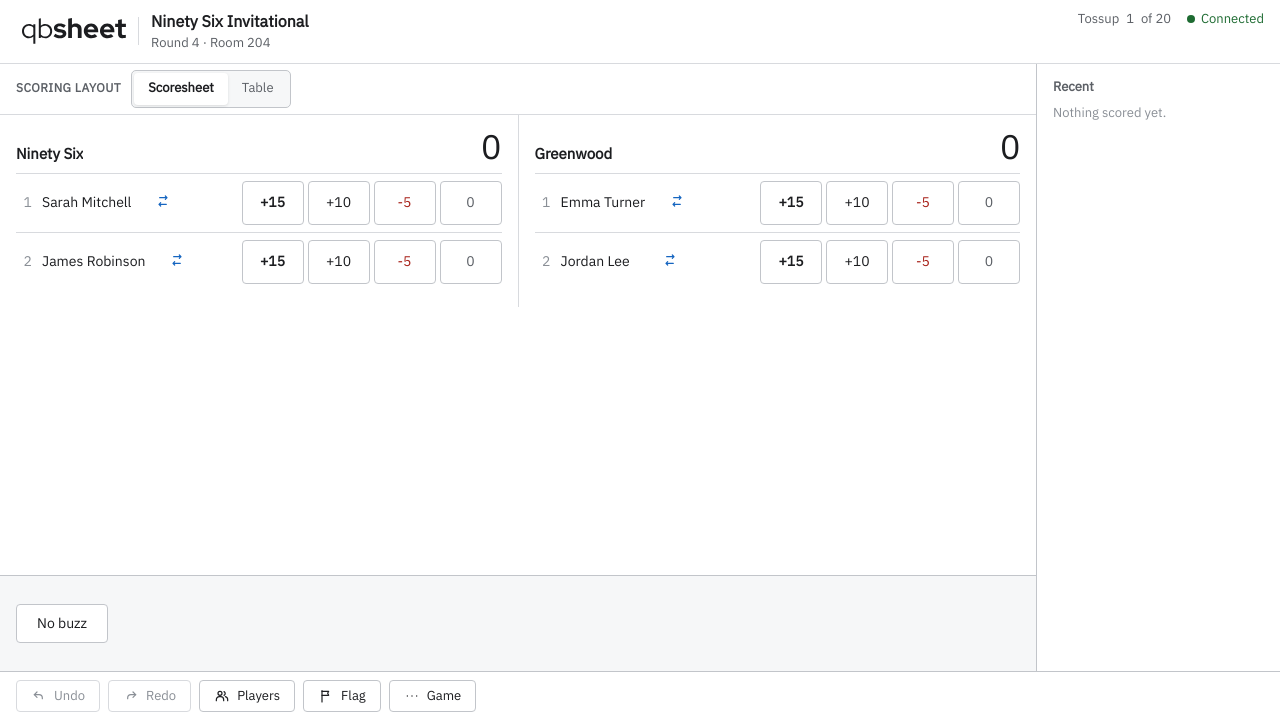
Test: the Game menu entry › choosing a game renders that game and only that game
Click the button "Game" at (432, 696), box [389,680,476,712]
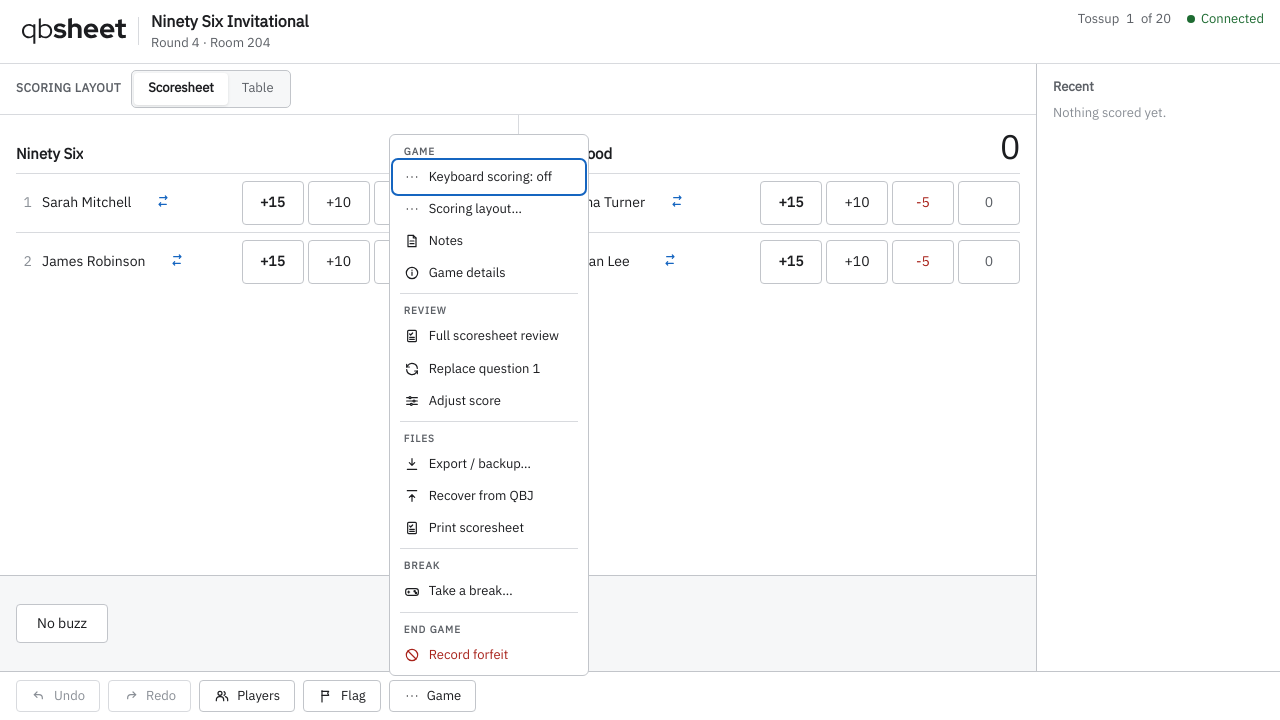
Click the menu item "Take a break…" at (489, 592), box [394,575,584,608]
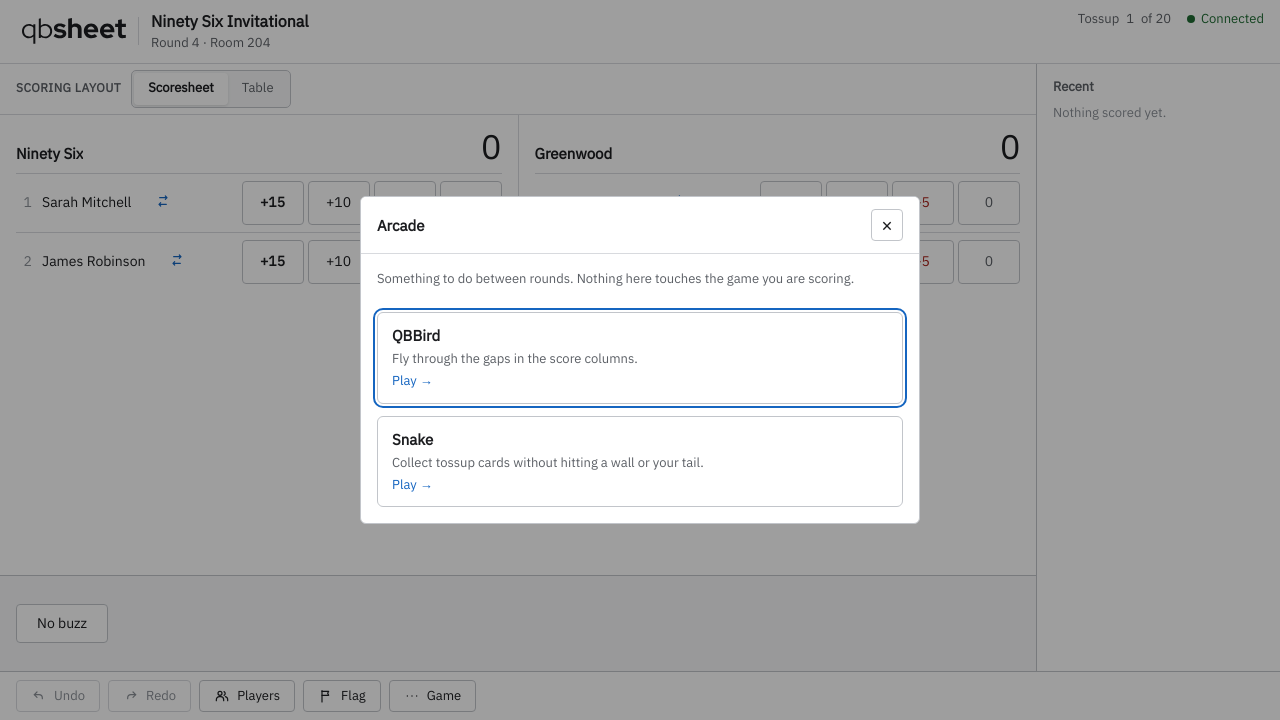
Click the button "QBBird Fly through the gaps in the score columns. Play →" at (640, 358), box [377,312,903,404]
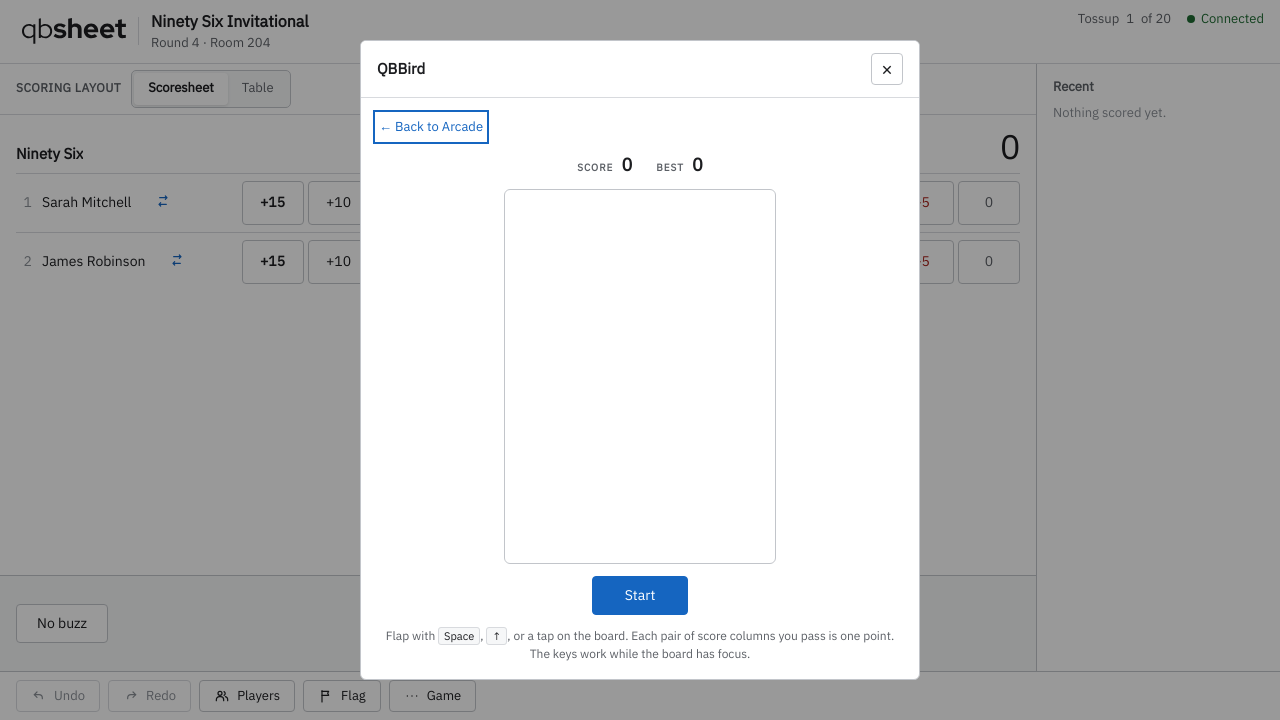
expect the drawing named "QBBird play area" is shown: met, box [504,189,776,564]
Click the button "← Back to Arcade" at (431, 127), box [377,114,485,140]
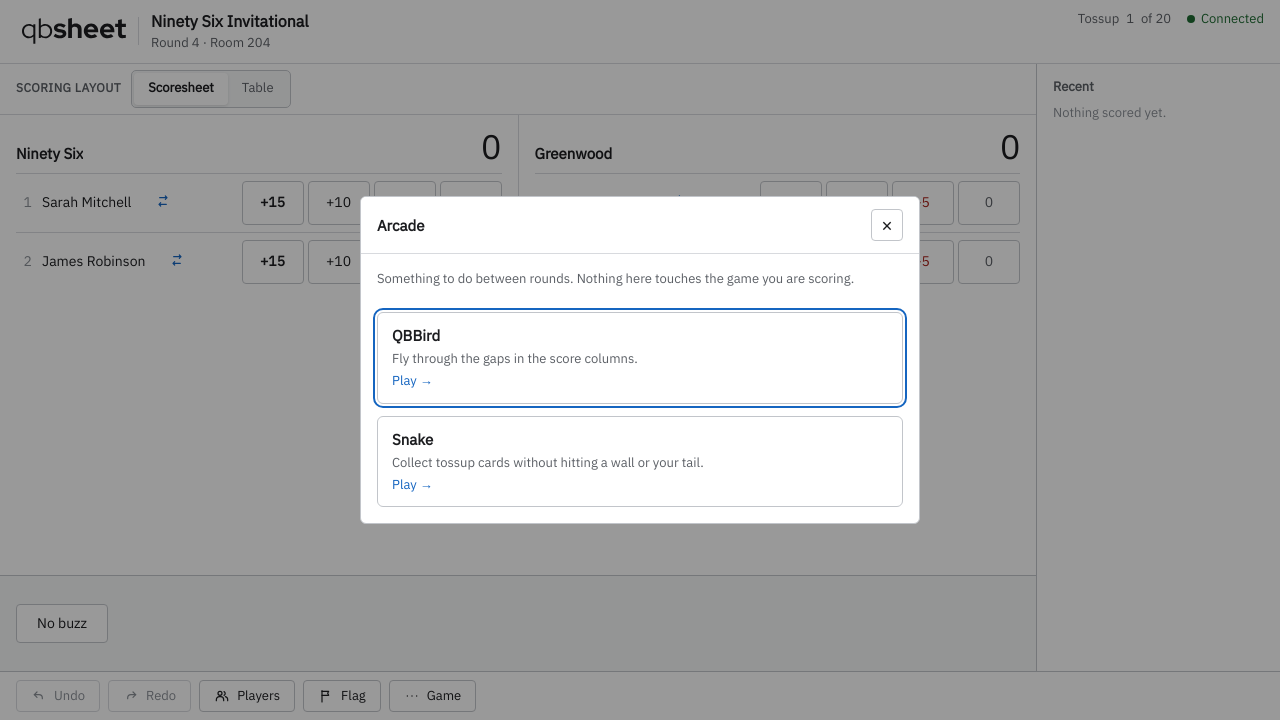
Click the button "Snake" at (640, 461), box [377,416,903,507]
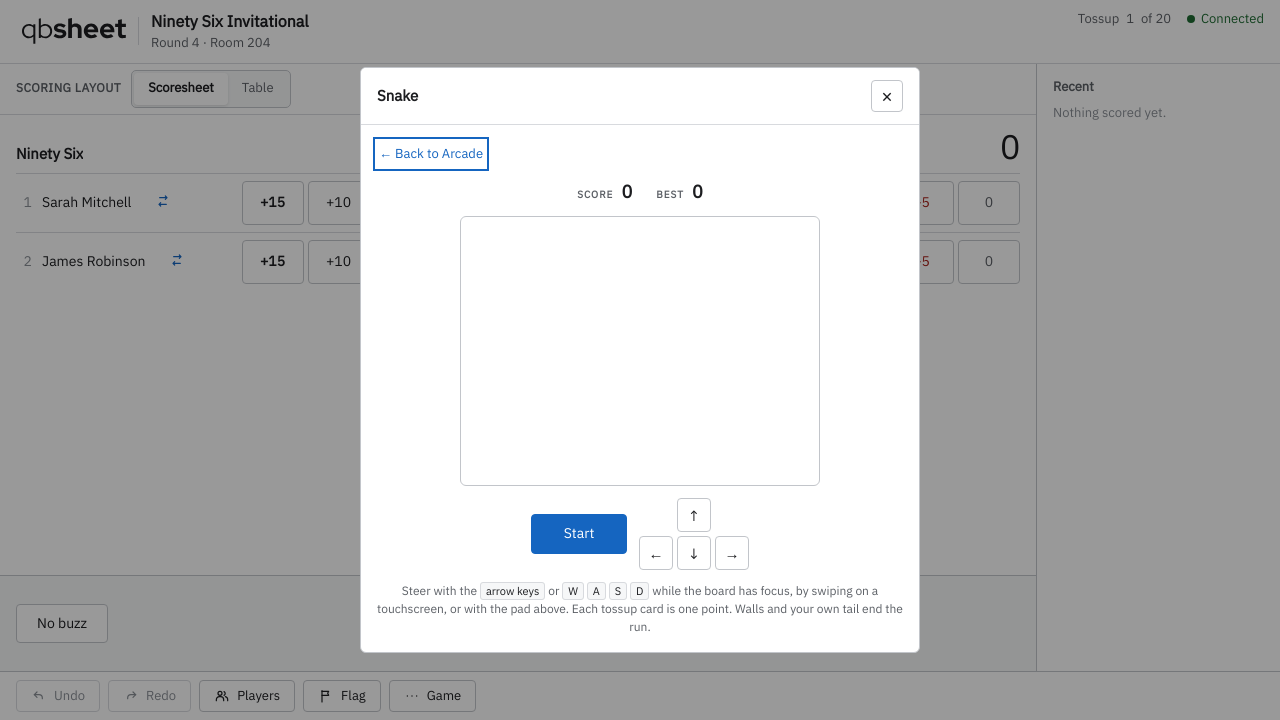
expect the drawing named "Snake play area" is shown: met, box [460,216,820,486]
